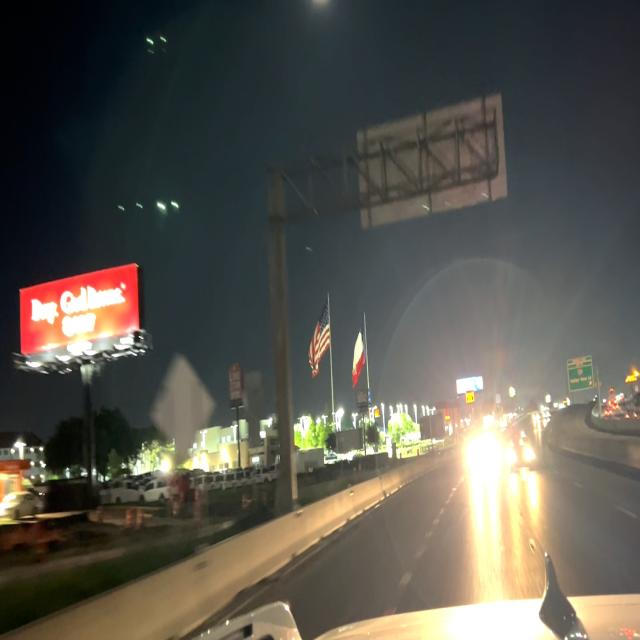back-of-sign: (350, 90, 518, 235), (149, 346, 215, 467)
